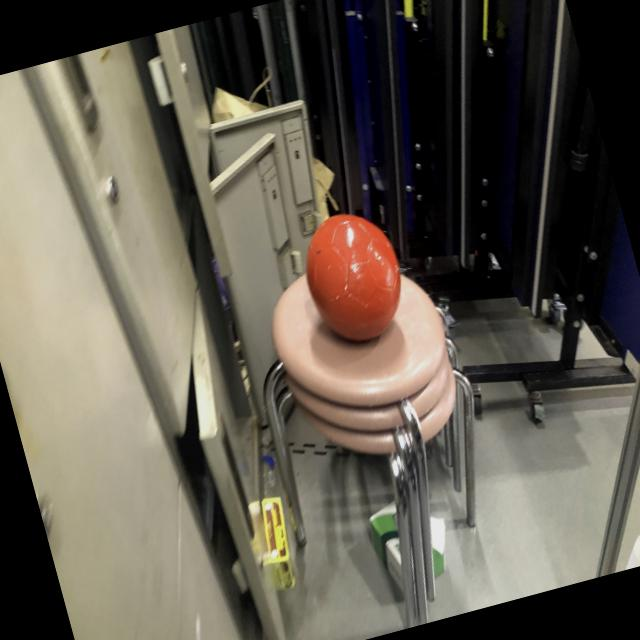red_ball: (292, 202, 416, 353)
